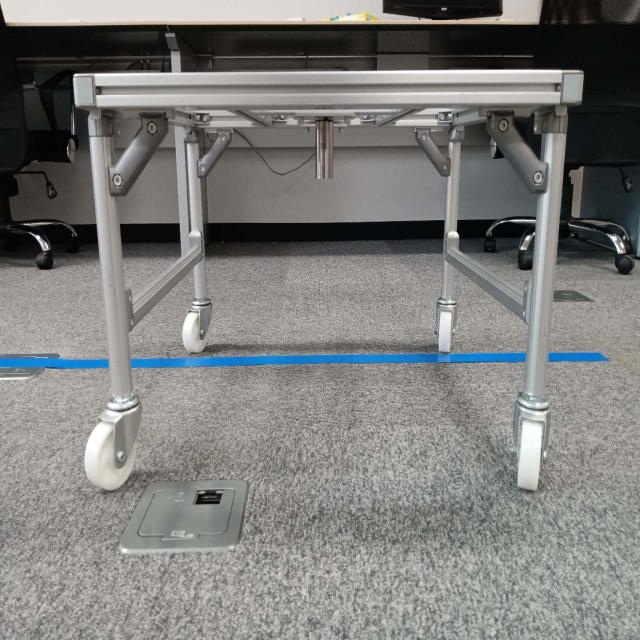door: (78, 65, 564, 196)
